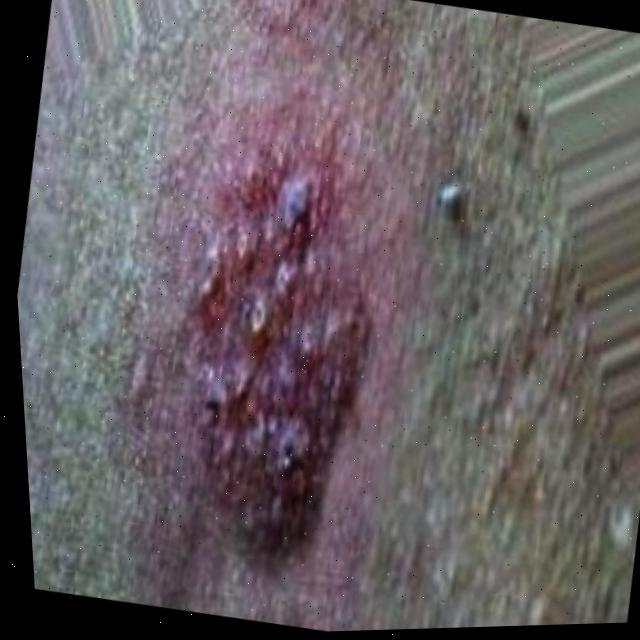Shingles: (134, 170, 396, 572)
